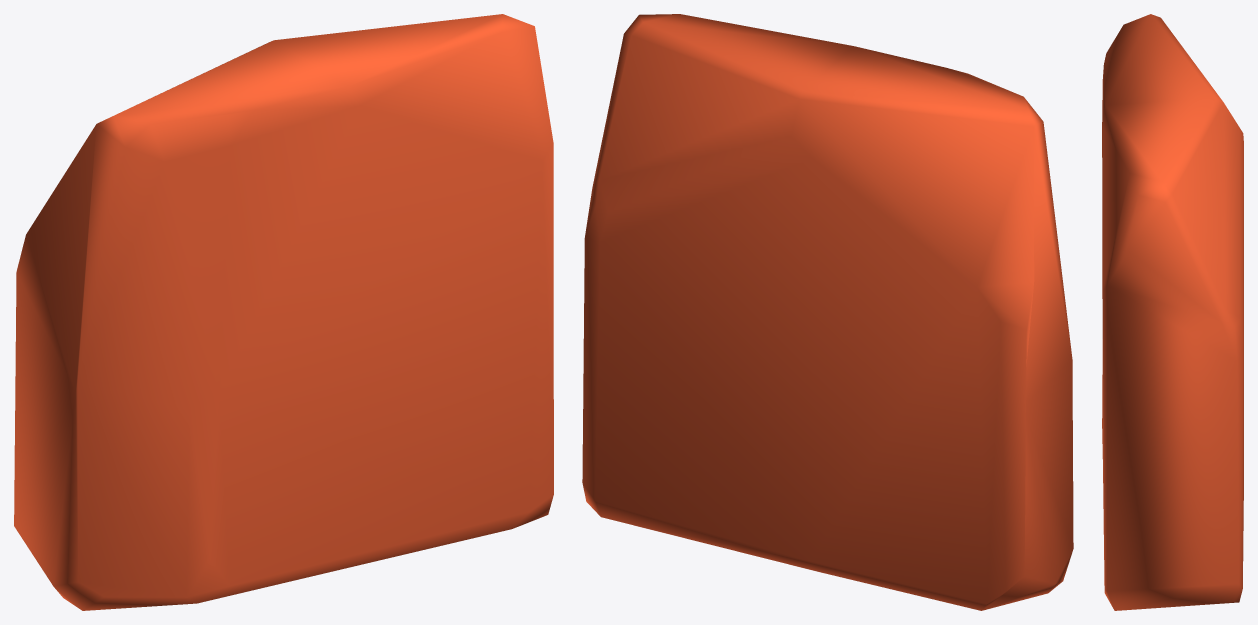
The picture shows the model from 3 angles, left to right: view 1: azimuth 30°, elevation 25°; view 2: azimuth 150°, elevation 25°; view 3: azimuth 270°, elevation 25°; orthographic projection. The views are drawn at different scales.
Visible parts, largest first — view 1: Roca32; view 2: Roca32; view 3: Roca32.
Part boxes in pixels (x1=…): Roca32: x1=14, y1=14, x2=553, y2=610; Roca32: x1=582, y1=14, x2=1073, y2=610; Roca32: x1=1102, y1=14, x2=1243, y2=610.
Size of the model in its own units: 178 by 179 by 54.36.
